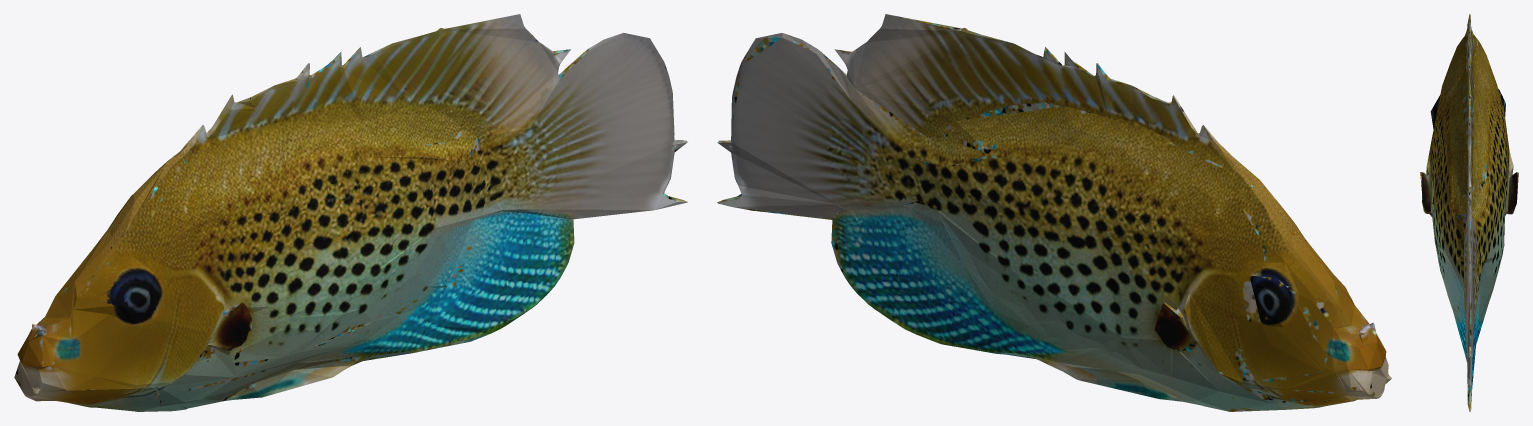
Rendered from fish_0003_smpl23_resized.glb.
The picture shows the model from 3 angles, left to right: view 1: azimuth 30°, elevation 25°; view 2: azimuth 150°, elevation 25°; view 3: azimuth 270°, elevation 25°; orthographic projection. The views are drawn at different scales.
Visible parts, largest first — view 1: world; view 2: world; view 3: world.
Boxes of the visible parts, x1,y1,x2,y2 form: world: [14, 14, 687, 411]; world: [717, 14, 1391, 411]; world: [1420, 14, 1518, 411].
Bounding box in the file's own units: 1.99 × 0.9212 × 0.2833.
Materials: 1 (1 with a texture image).
